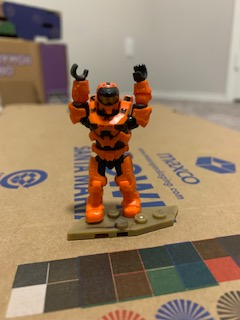spartan: (63, 62, 154, 221)
up: (66, 62, 152, 149)
